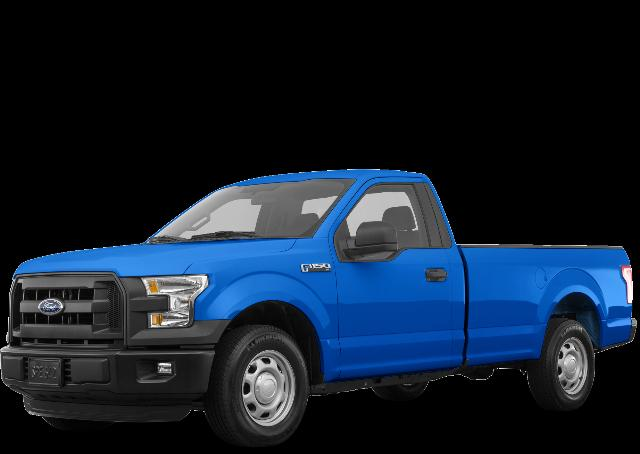pickup-truck: (1, 168, 636, 448)
